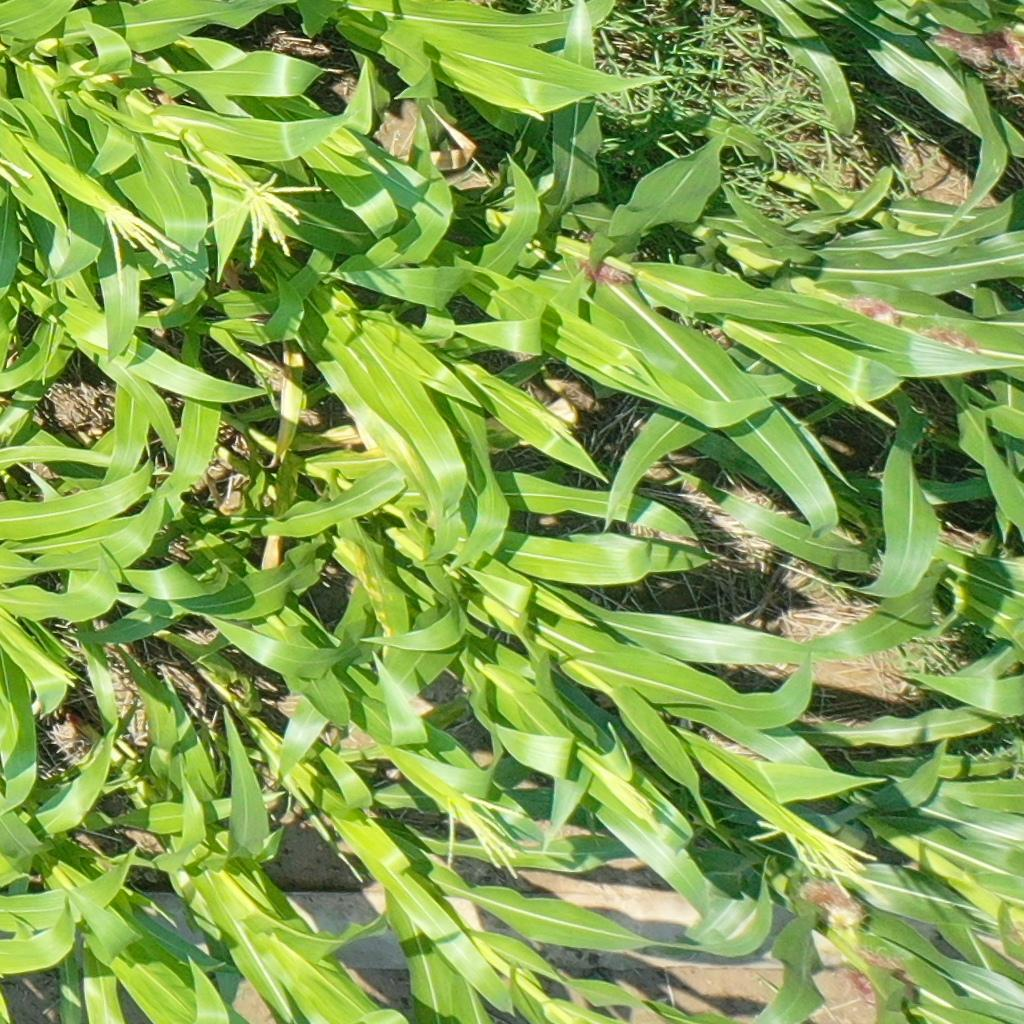Tassel: (159, 144, 329, 269), (752, 811, 881, 902), (437, 784, 534, 884), (103, 200, 193, 302), (589, 761, 664, 835), (531, 406, 586, 454)
